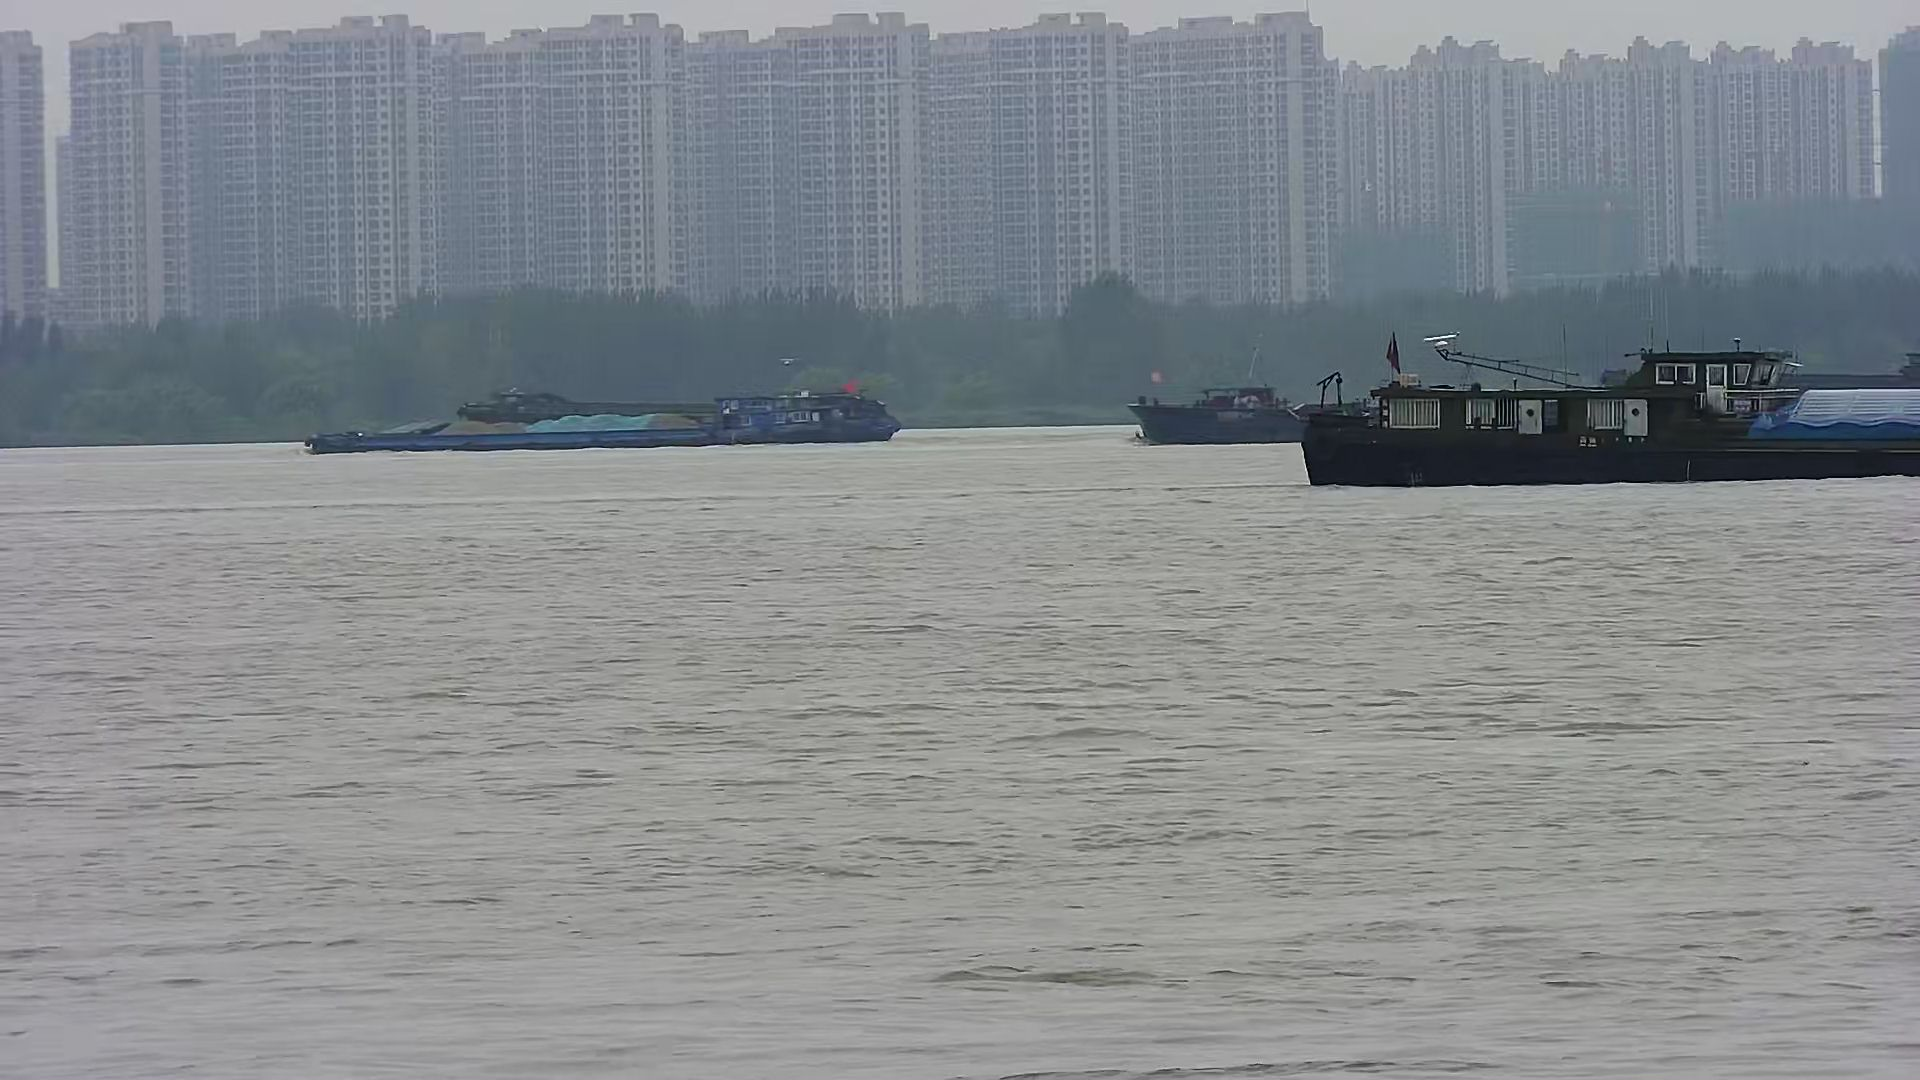ship: (1304, 335, 1920, 491), (1106, 357, 1920, 444), (305, 378, 907, 456)
